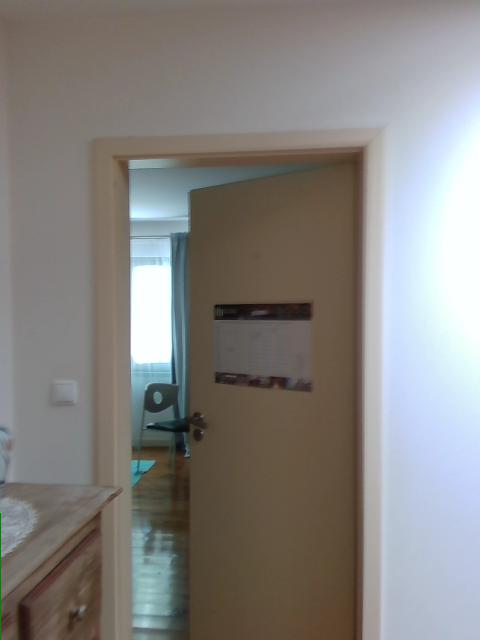semi_door: (92, 124, 388, 639)
